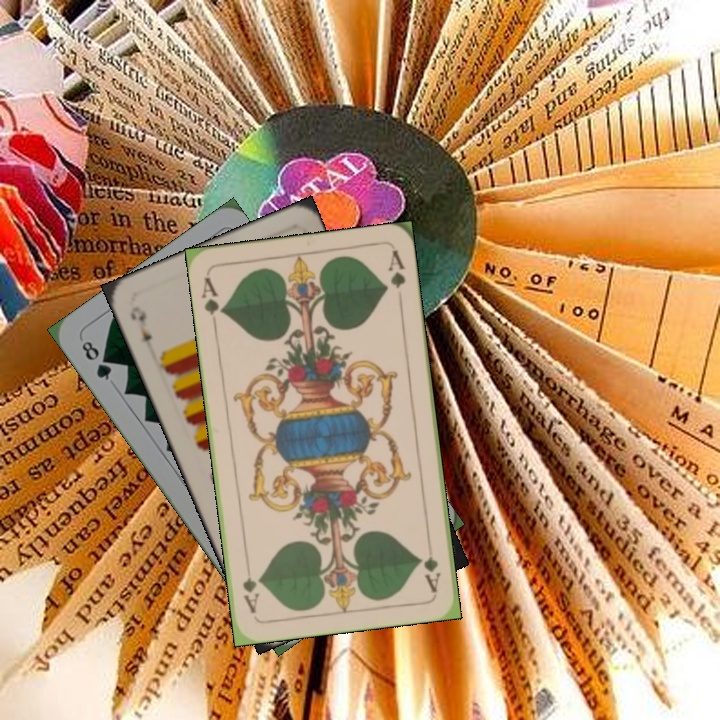E9: (126, 302, 155, 345)
G8: (77, 336, 115, 383)
GA: (198, 273, 227, 330), (420, 536, 443, 595)
